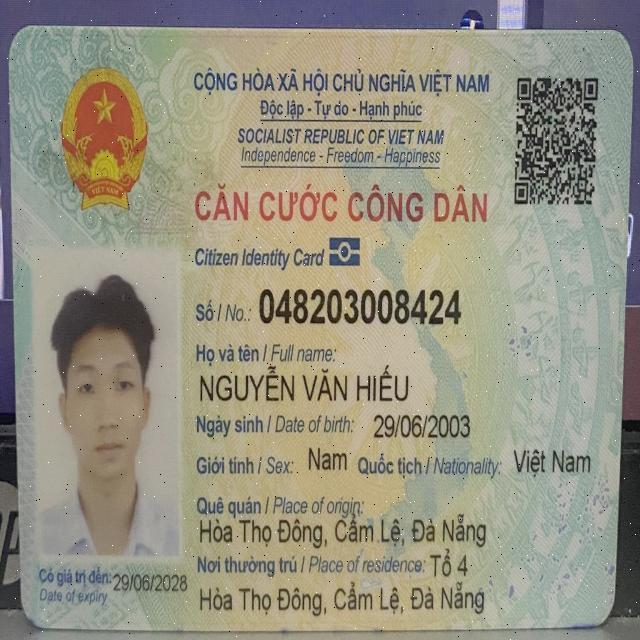current_place: (195, 579, 485, 615), (427, 545, 472, 580)
dob: (370, 409, 478, 460)
expire_date: (112, 569, 187, 598)
gender: (306, 445, 350, 478)
id: (252, 283, 461, 332)
name: (195, 361, 410, 406)
nationality: (512, 444, 591, 480)
origin_place: (196, 512, 488, 547)
